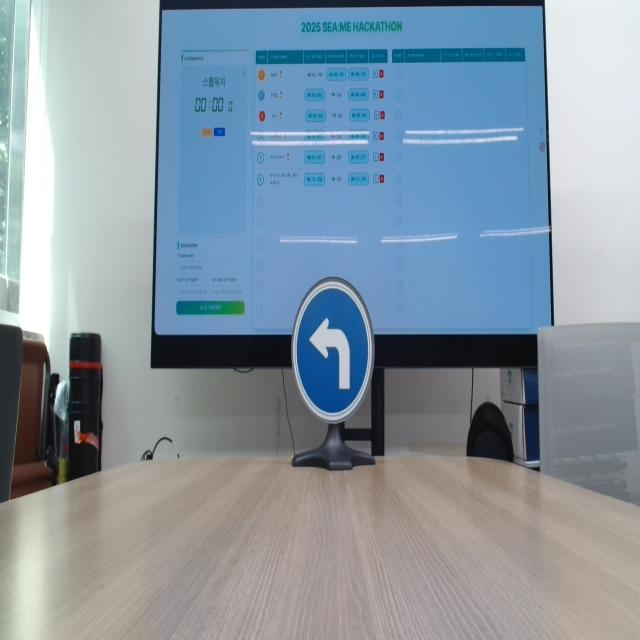left_direction: (291, 270, 379, 424)
